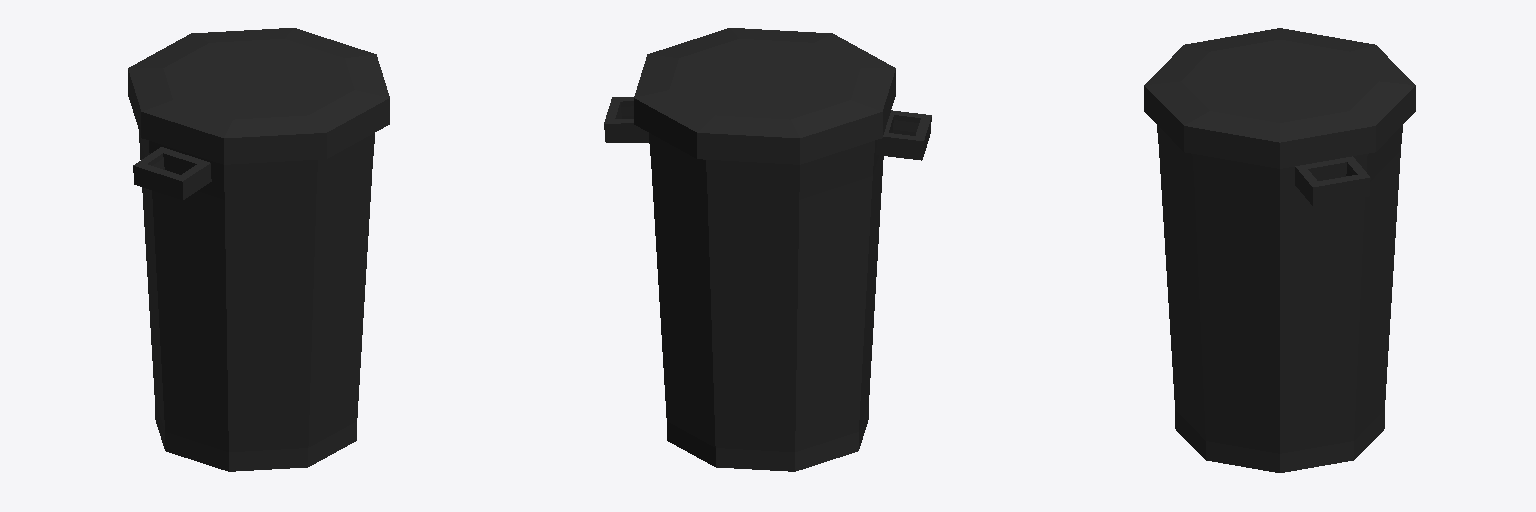
Rendered from Trash_can.obj.
3 renders of one model, left to right at view 1: azimuth 30°, elevation 25°; view 2: azimuth 150°, elevation 25°; view 3: azimuth 270°, elevation 25°, orthographic.
Parts seen in each view (by area): view 1: trash_can_1, trash_can_lid; view 2: trash_can_1, trash_can_lid; view 3: trash_can_1, trash_can_lid.
Part boxes in pixels (x1,y1,x2,y2): trash_can_1: (133, 132, 374, 471); trash_can_lid: (128, 28, 389, 164); trash_can_1: (604, 97, 931, 471); trash_can_lid: (634, 28, 895, 164); trash_can_1: (1157, 125, 1402, 472); trash_can_lid: (1144, 28, 1415, 168).
Size of the model in its own units: 1.06 by 1.28 by 0.8975.